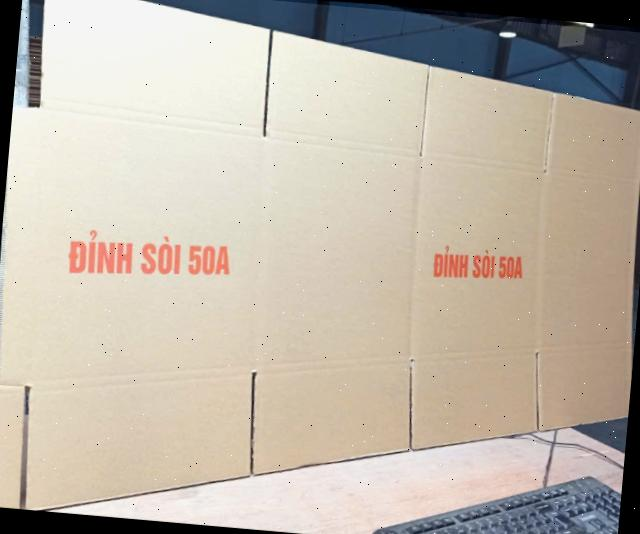box: (0, 0, 640, 510)
